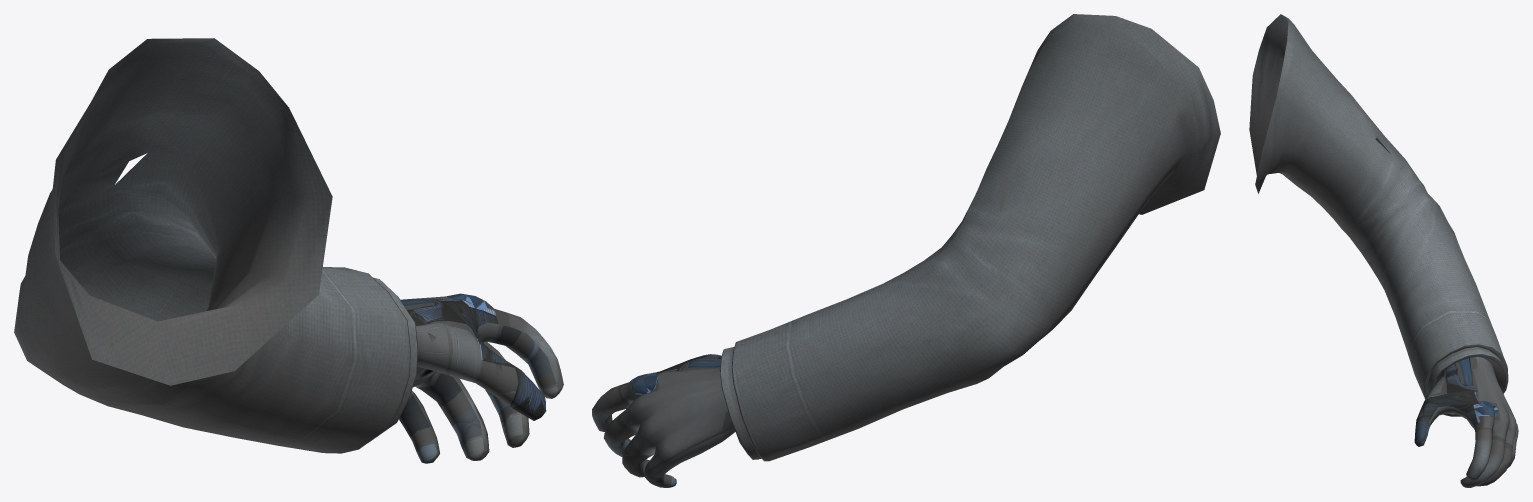
File: cientifico_brazo_izq.obj
3 renders of one model, left to right at view 1: azimuth 30°, elevation 25°; view 2: azimuth 150°, elevation 25°; view 3: azimuth 270°, elevation 25°, orthographic. The views are drawn at different scales.
Parts seen in each view (by area): view 1: brazo_izq_Material.002; view 2: brazo_izq_Material.002; view 3: brazo_izq_Material.002.
Boxes of the visible parts, <box> form: brazo_izq_Material.002: <box>14,38,563,463</box>; brazo_izq_Material.002: <box>592,14,1220,487</box>; brazo_izq_Material.002: <box>1249,14,1518,487</box>.
Size of the model in its own units: 0.4198 by 0.3804 by 0.2713.
